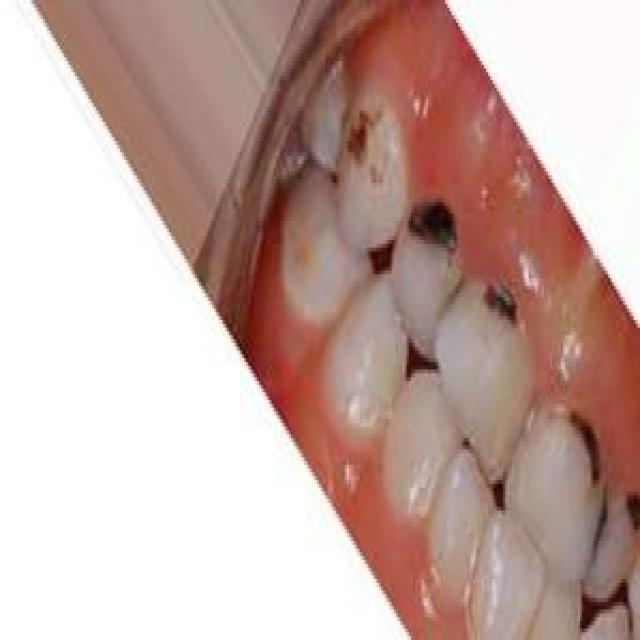caries: (342, 76, 395, 230), (475, 265, 531, 402), (403, 170, 459, 297), (551, 393, 609, 495), (601, 476, 640, 566)
